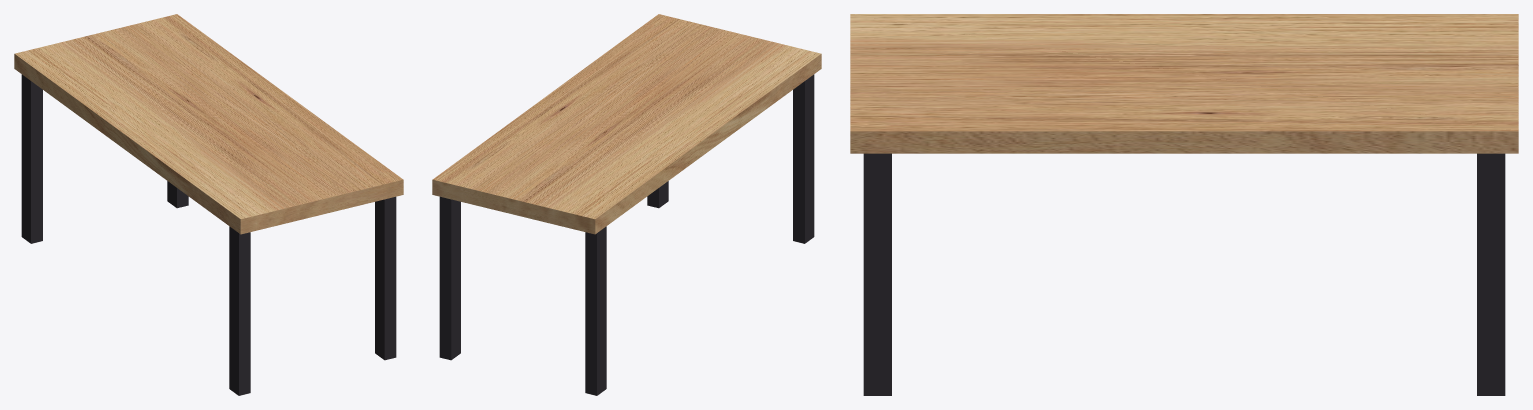
File: table.fbx
3 renders of one model, left to right at view 1: azimuth 30°, elevation 25°; view 2: azimuth 150°, elevation 25°; view 3: azimuth 270°, elevation 25°, orthographic. The views are drawn at different scales.
Parts seen in each view (by area): view 1: Cube, Cube.003; view 2: Cube, Cube.003; view 3: Cube, Cube.003.
Boxes of the visible parts, x1,y1,x2,y2 form: Cube: (14,14,403,234); Cube.003: (21,74,396,395); Cube: (432,14,821,234); Cube.003: (439,74,814,395); Cube: (850,14,1518,153); Cube.003: (863,153,1505,395).
Size of the model in its own units: 223 by 237 by 538.
2 materials, 1 textured.
